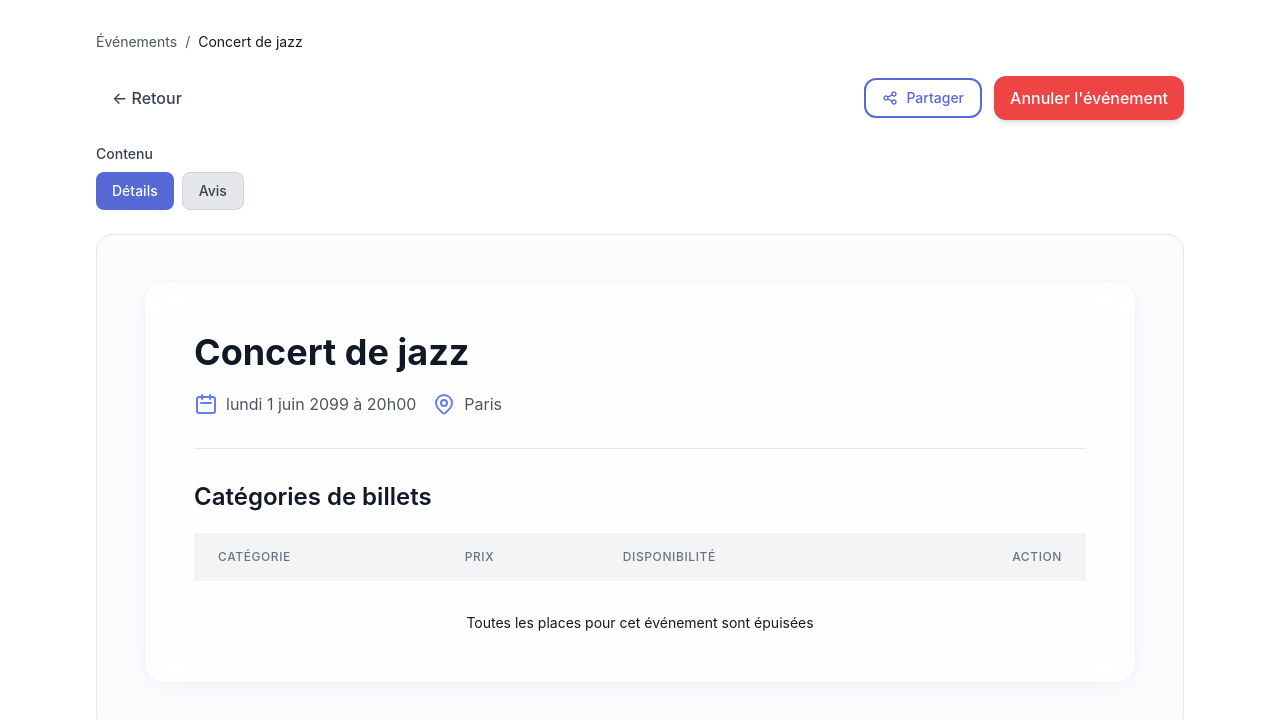
Test: EventDetailPage - content › shows an error in the cancel modal when cancellation fails
Click the button "Annuler l'événement" at (1089, 98), box [994,76,1184,120]
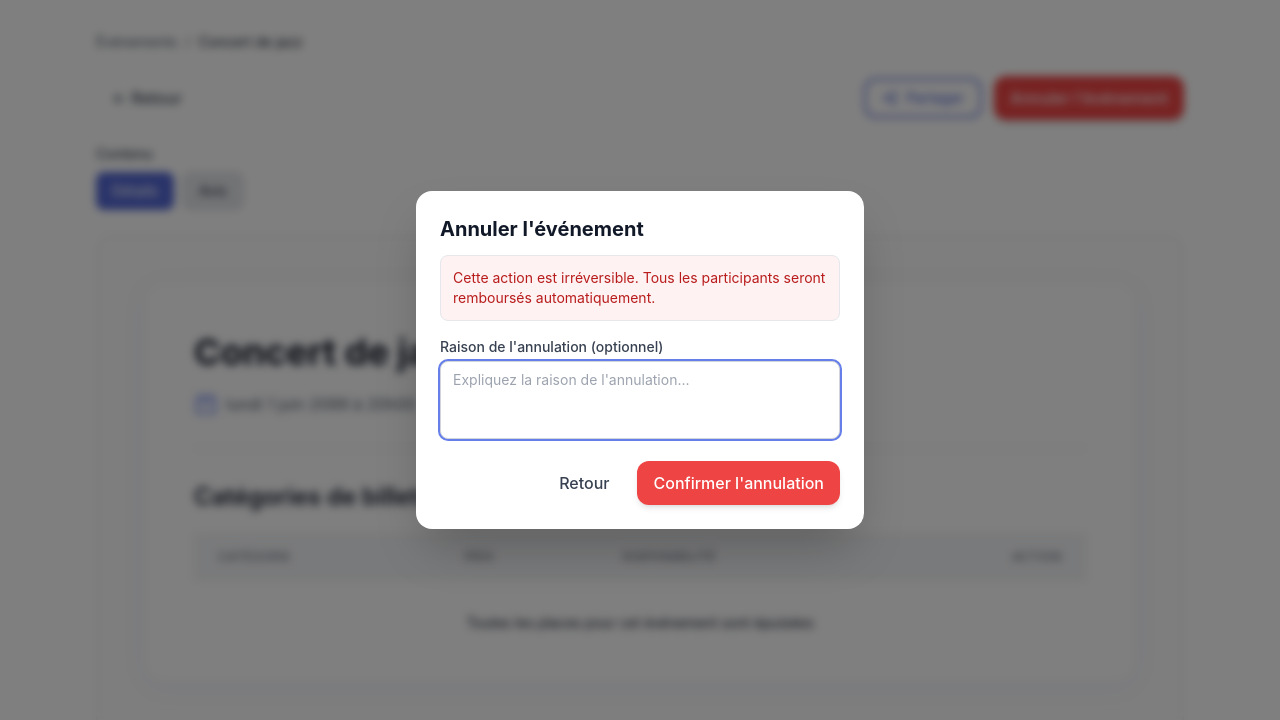
Click the button "Confirmer l'annulation" at (739, 483), box [638,461,840,505]
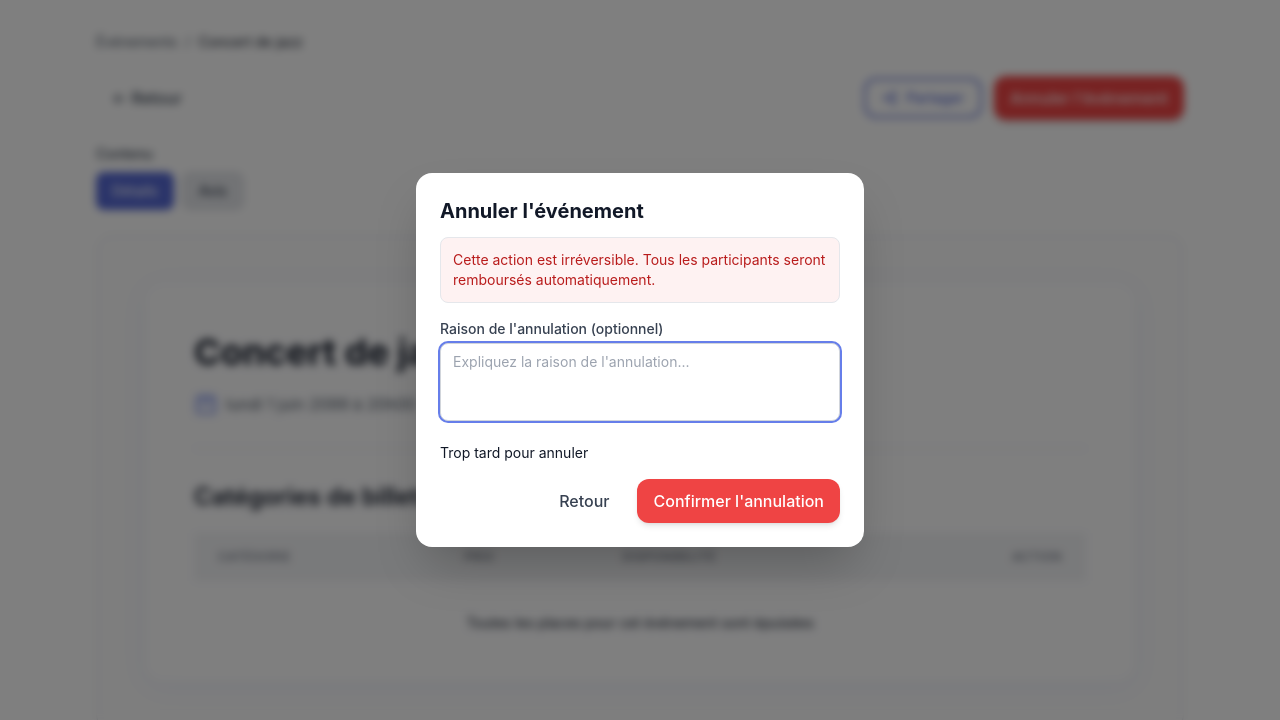
Result: the text "Trop tard pour annuler" is shown at [440,444,588,461]
